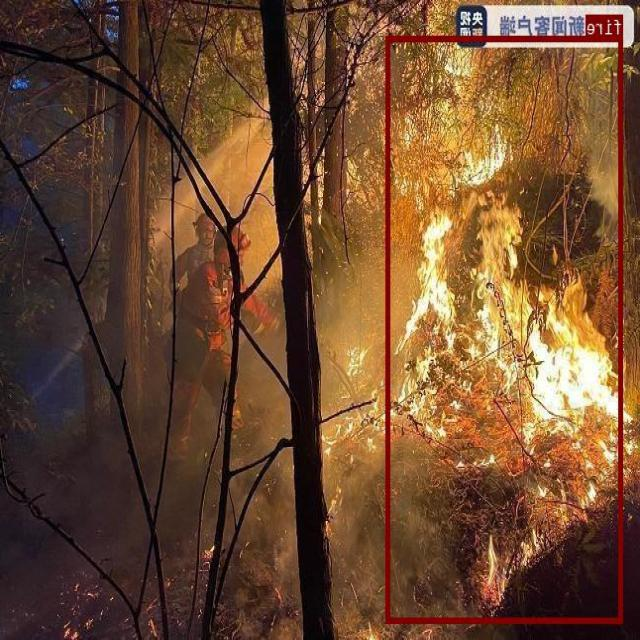fire: (386, 35, 624, 622)
